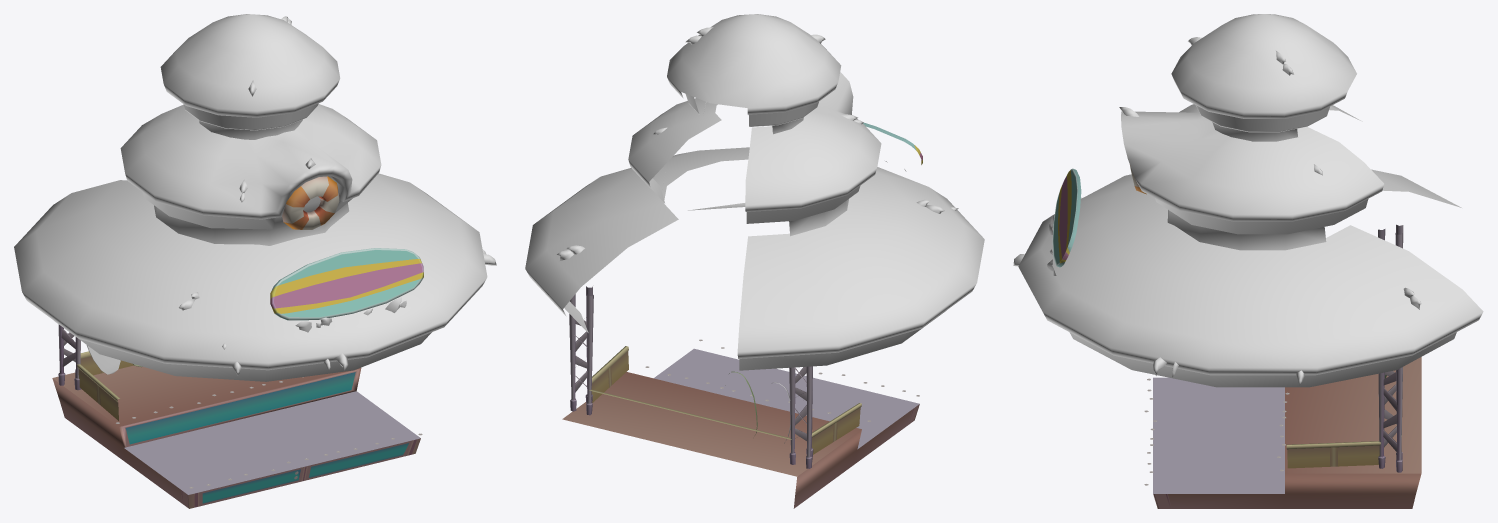
Rendered from BeachStage.glb.
3 views of the same model, side by side, from view 1: azimuth 30°, elevation 25°; view 2: azimuth 150°, elevation 25°; view 3: azimuth 270°, elevation 25° (orthographic). The views are drawn at different scales.
Parts seen in each view (by area): view 1: BeachStage; view 2: BeachStage; view 3: BeachStage.
Boxes of the visible parts, <box> form: BeachStage: <box>14,14,496,508</box>; BeachStage: <box>525,14,984,508</box>; BeachStage: <box>1013,14,1483,508</box>.
Size of the model in its own units: 7.02 by 7.04 by 6.84.
